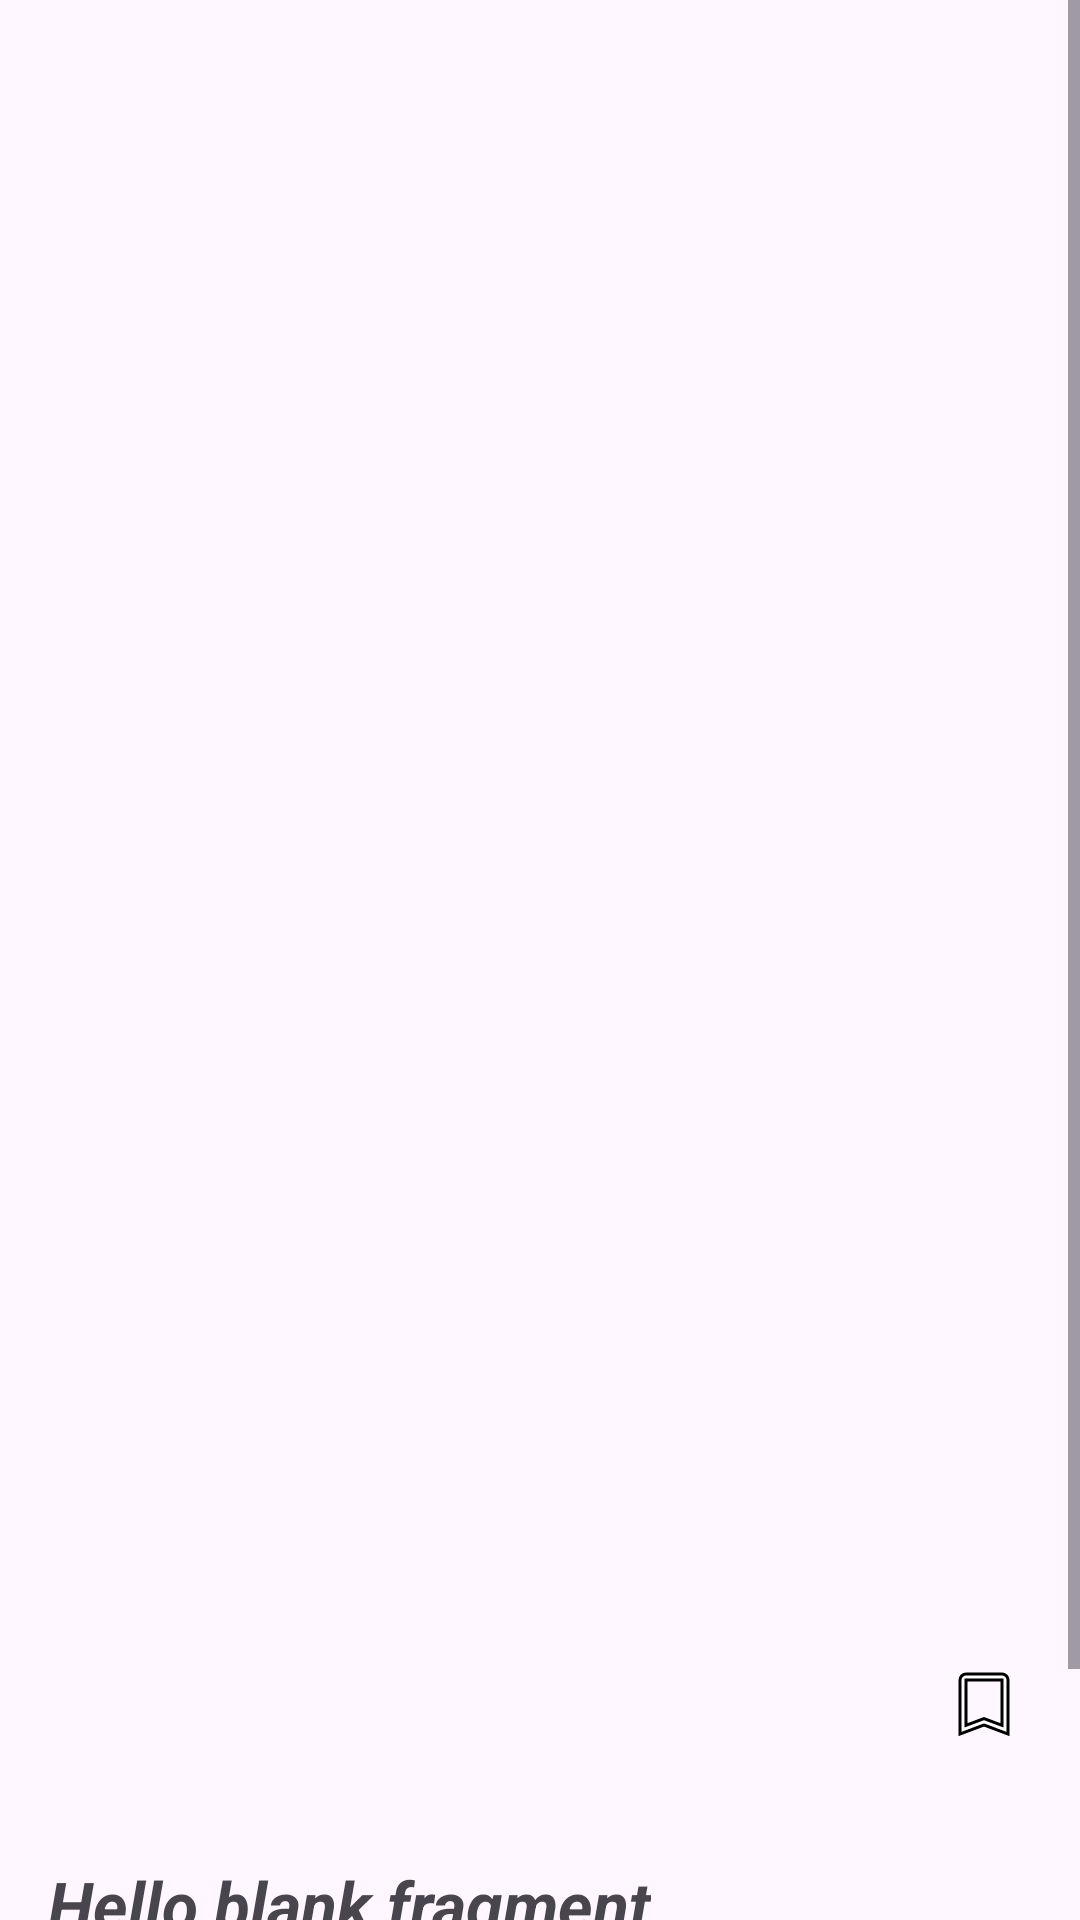

Icon bounding boxes for this 1080px x 1920px phone screenshot, format box(x1, y1, x2, y2):
bookmark: box(958, 1672, 1010, 1736)
